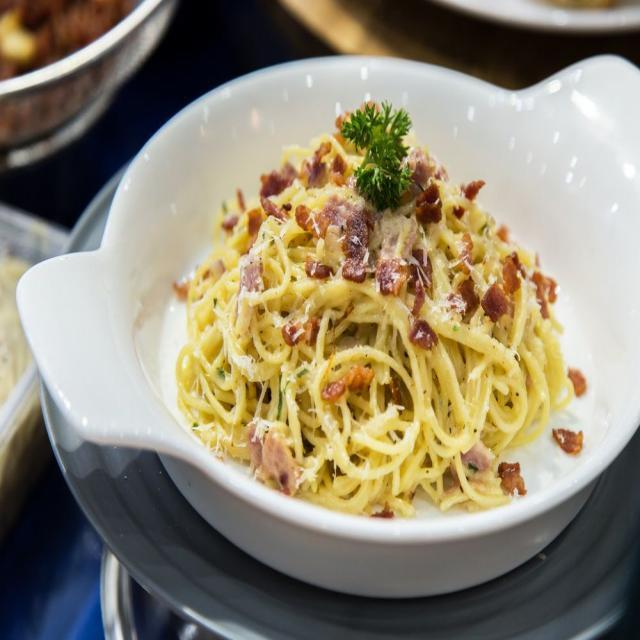Pasta with carbonara sauce: (156, 61, 600, 578)
